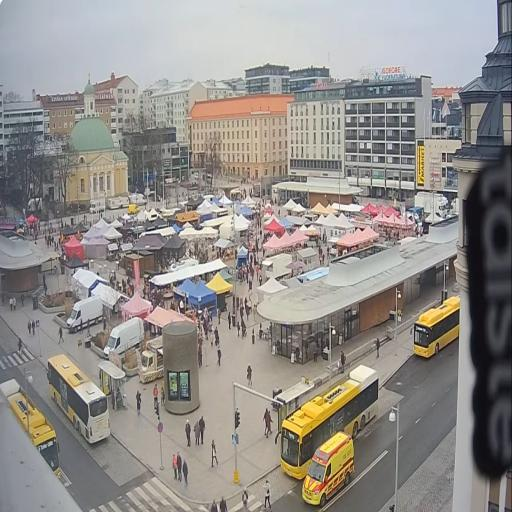Bus: (281, 365, 379, 479), (0, 379, 60, 477), (47, 355, 110, 443), (412, 296, 460, 358)
Delivery: (104, 317, 144, 359), (67, 296, 103, 332), (137, 336, 163, 383)
